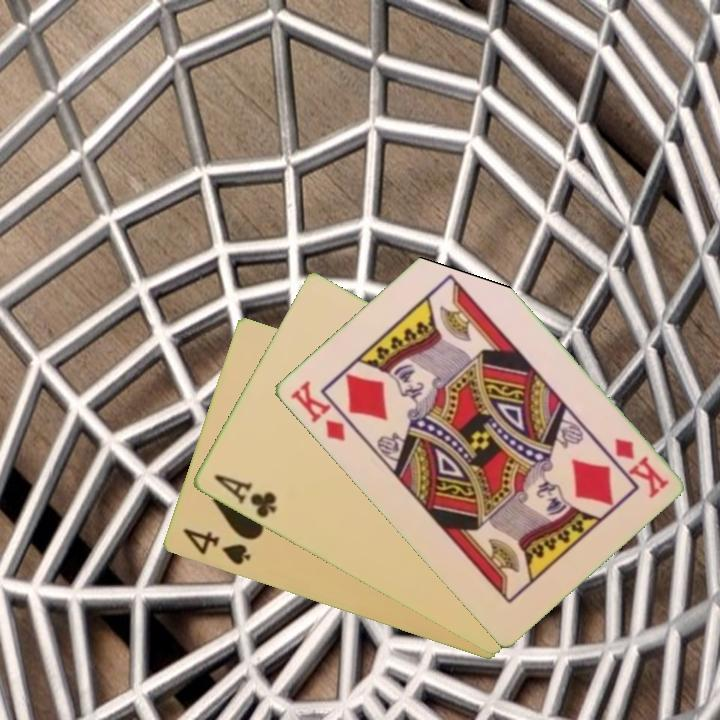4s: (179, 525, 253, 569)
Ac: (210, 470, 279, 521)
Kd: (286, 377, 360, 445), (610, 434, 672, 501)
